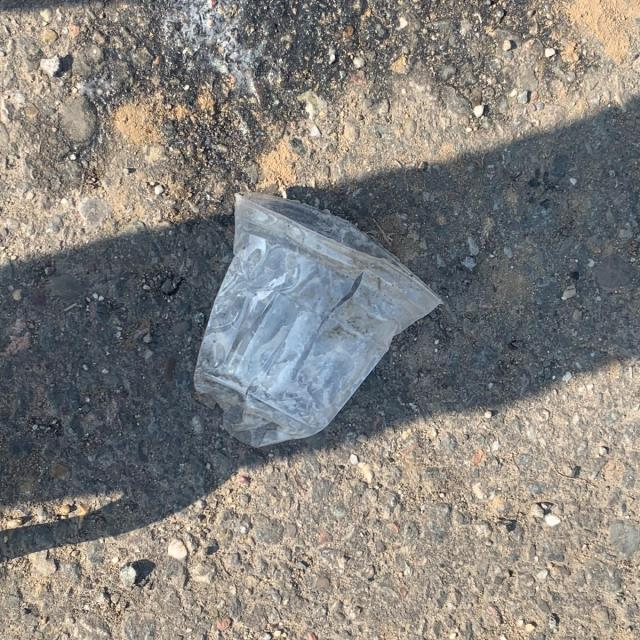Paper: (185, 190, 444, 453)
